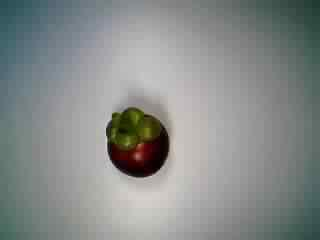mangosteen: (98, 102, 171, 182)
